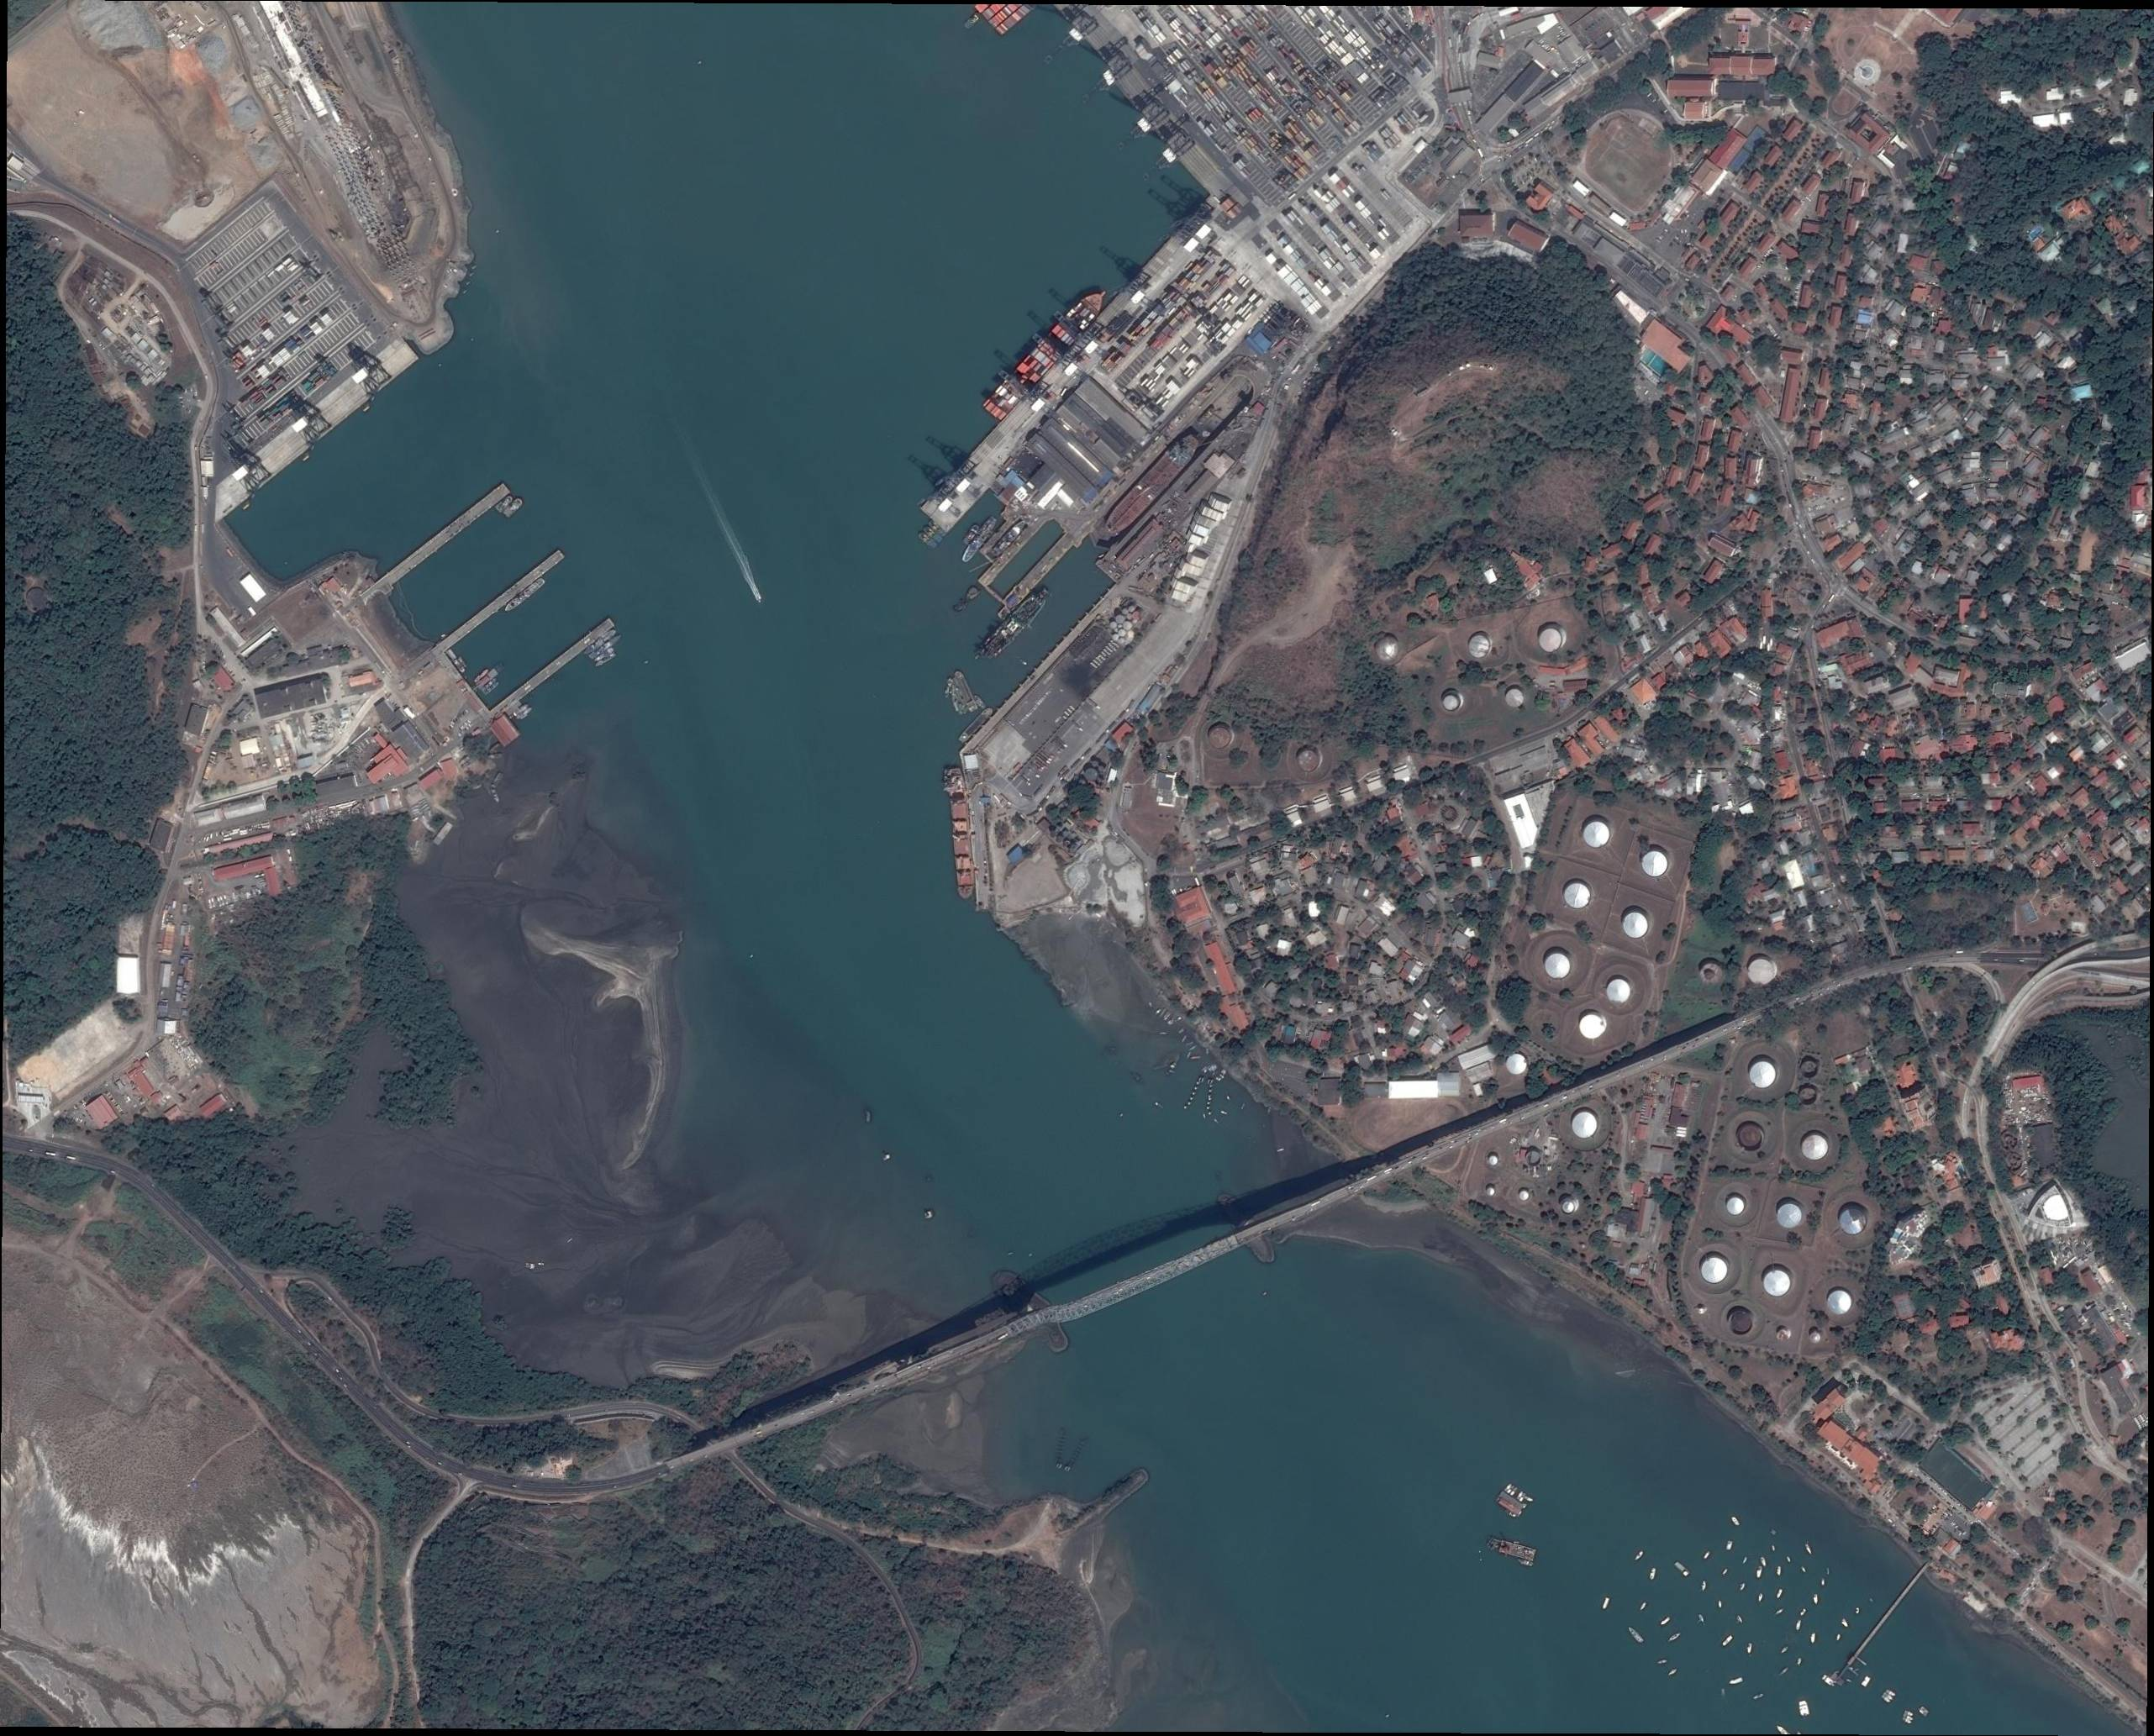baseball diamond: (1608, 128, 1641, 160)
bridge: (732, 1142, 1440, 1455)
harbor: (1820, 1552, 1935, 1694), (375, 478, 514, 595), (435, 544, 570, 656), (491, 614, 619, 719)
ship: (1094, 394, 1271, 582), (975, 276, 1116, 427), (1098, 430, 1204, 541), (974, 583, 1054, 665), (943, 766, 976, 903), (985, 514, 1032, 563), (958, 514, 999, 565), (502, 574, 550, 614), (1486, 1533, 1537, 1566), (958, 706, 998, 745), (950, 667, 982, 715), (582, 627, 619, 657), (587, 634, 623, 661), (500, 493, 528, 521), (958, 520, 983, 547), (495, 492, 519, 514), (591, 645, 617, 665), (1624, 1623, 1646, 1644), (593, 651, 619, 669), (508, 701, 529, 719), (516, 706, 536, 722), (972, 692, 988, 710), (1727, 1675, 1744, 1686), (1754, 1565, 1765, 1581), (1721, 1633, 1734, 1648), (1600, 1597, 1612, 1611), (1649, 1567, 1656, 1581)
storage tank: (1836, 1202, 1872, 1238), (1762, 1265, 1796, 1299), (1619, 906, 1652, 941), (1733, 1121, 1767, 1154), (1697, 1253, 1730, 1285), (1746, 955, 1779, 986), (1542, 948, 1574, 981), (1640, 846, 1672, 879), (1562, 879, 1594, 911), (1748, 1055, 1779, 1089), (1775, 1198, 1807, 1230), (1583, 816, 1613, 850), (1571, 1107, 1600, 1141), (1800, 1129, 1830, 1162), (1725, 1304, 1755, 1337), (1536, 623, 1568, 653), (1578, 1010, 1608, 1041), (1373, 632, 1402, 663), (1606, 976, 1634, 1007), (1697, 958, 1726, 986), (1826, 1287, 1854, 1317), (1209, 722, 1235, 752), (1296, 745, 1324, 773), (1467, 631, 1493, 660), (1441, 687, 1465, 714), (1504, 1051, 1529, 1076), (1725, 1194, 1749, 1218), (1796, 1084, 1820, 1107), (1504, 686, 1527, 709), (1523, 1148, 1546, 1170), (1799, 1058, 1819, 1079), (1560, 1196, 1580, 1216), (1776, 1325, 1793, 1343), (1518, 1186, 1533, 1202), (1809, 1330, 1823, 1346), (1486, 1152, 1500, 1167), (1486, 1186, 1498, 1198)
